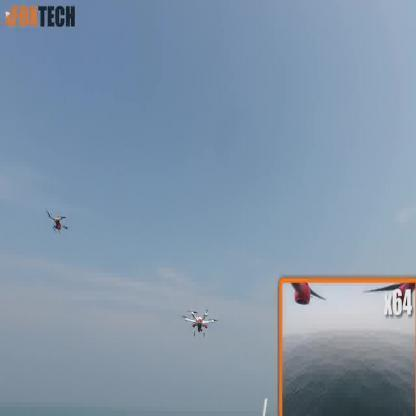drone: (183, 309, 219, 333), (46, 209, 70, 231)
